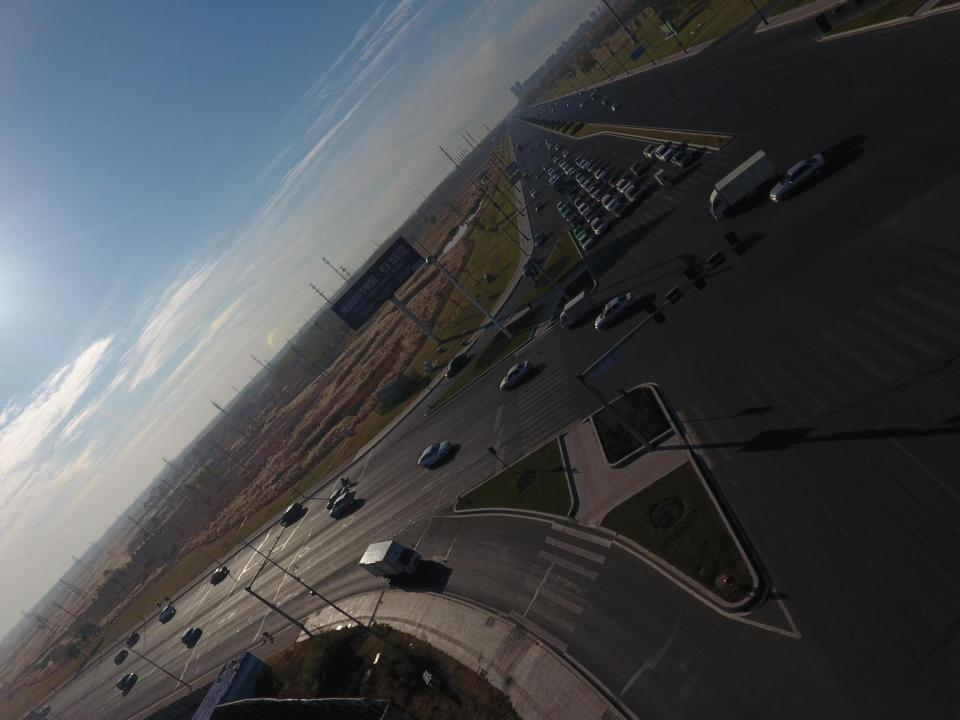bus: (548, 174, 568, 194)
car: (770, 153, 828, 201), (594, 291, 636, 331), (500, 360, 532, 391), (418, 440, 452, 468), (329, 492, 353, 520), (280, 500, 303, 524), (326, 487, 348, 509), (623, 184, 645, 204), (671, 150, 693, 170), (655, 144, 676, 163), (115, 672, 137, 690), (210, 564, 227, 586), (181, 627, 202, 644), (590, 216, 608, 234), (522, 256, 537, 277), (616, 179, 635, 195), (601, 194, 618, 211), (643, 144, 660, 160), (579, 233, 594, 251), (113, 650, 129, 666), (612, 203, 628, 219), (629, 161, 645, 176), (126, 631, 141, 646), (573, 224, 587, 240), (533, 231, 546, 247), (584, 209, 597, 224), (578, 202, 591, 217), (595, 190, 608, 205), (607, 176, 622, 189), (568, 215, 583, 227), (588, 186, 600, 199), (594, 169, 606, 181), (574, 198, 586, 210), (559, 206, 571, 218), (601, 172, 612, 185), (569, 194, 580, 207), (578, 177, 590, 188), (584, 180, 594, 193), (38, 706, 52, 715), (564, 210, 574, 222), (586, 162, 596, 173), (565, 187, 576, 197), (570, 170, 579, 182), (591, 164, 600, 175), (557, 201, 566, 212), (575, 156, 584, 166), (580, 160, 591, 168), (569, 168, 577, 179), (530, 187, 538, 198), (534, 202, 543, 211), (564, 165, 572, 175), (575, 174, 586, 181), (562, 150, 570, 158), (554, 143, 562, 151), (611, 103, 619, 111), (559, 160, 566, 169), (548, 168, 555, 176), (552, 156, 560, 162), (535, 172, 541, 180), (562, 162, 568, 169), (542, 164, 548, 171), (602, 98, 608, 105), (546, 143, 552, 149), (579, 101, 585, 107), (595, 86, 600, 92), (548, 153, 553, 158), (578, 90, 584, 94), (528, 147, 532, 152), (536, 141, 540, 146), (566, 102, 570, 106), (555, 101, 559, 105), (551, 107, 555, 110), (537, 114, 540, 117), (560, 97, 562, 101), (543, 109, 547, 111), (549, 106, 552, 108), (546, 106, 548, 109), (542, 112, 545, 114), (550, 108, 552, 110), (550, 101, 552, 103)
truck: (710, 149, 778, 221), (358, 540, 425, 577), (560, 290, 596, 330), (516, 142, 524, 152), (590, 92, 597, 100)
van: (523, 172, 530, 181), (544, 139, 550, 144)
